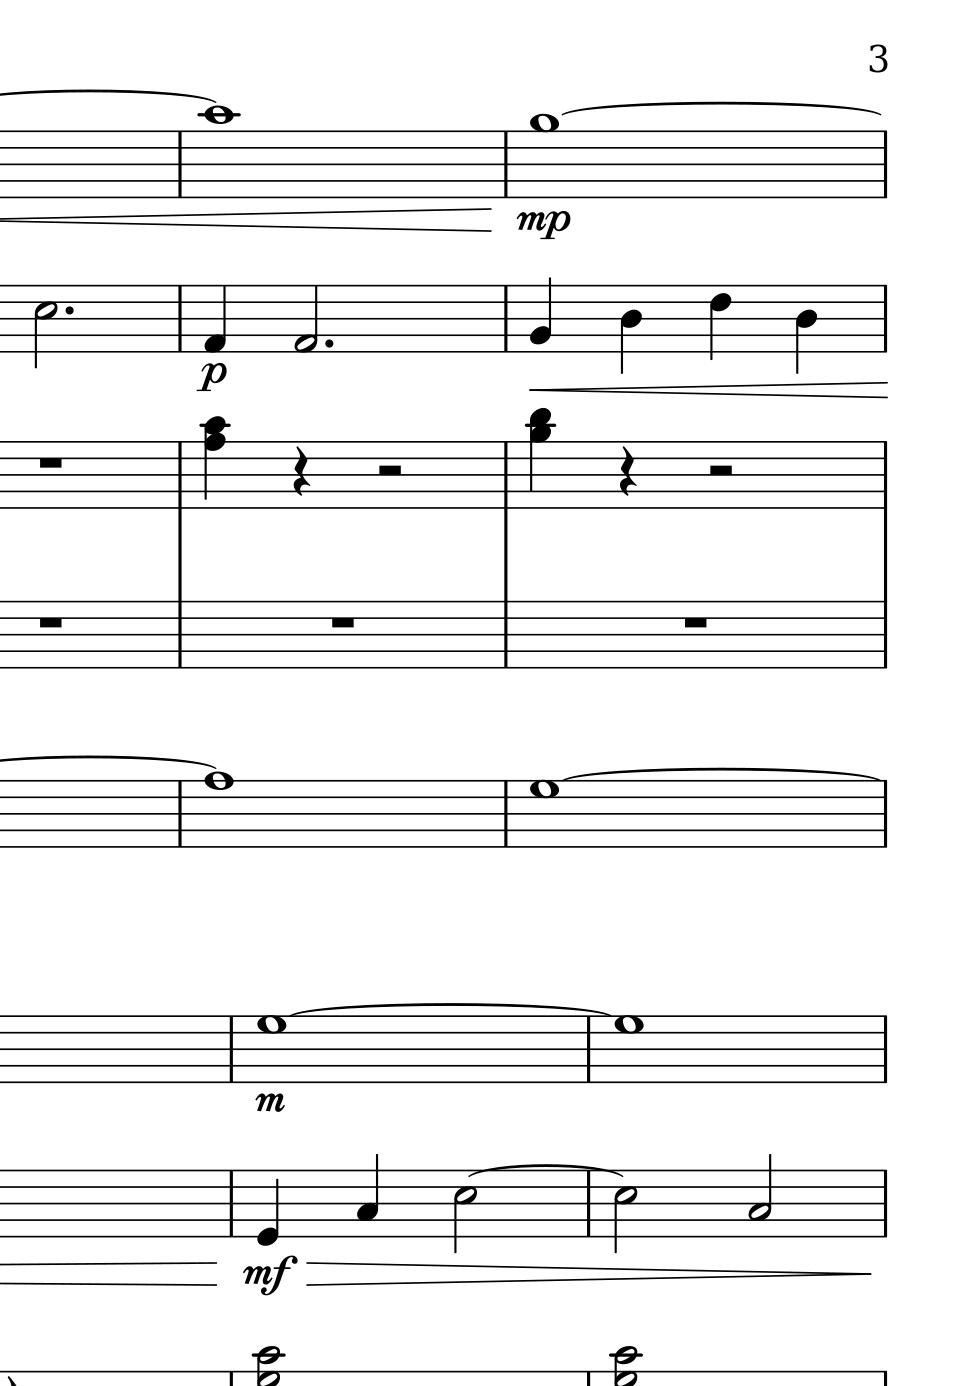1_10: (200, 104, 237, 200), (202, 771, 235, 850)
1_7: (255, 1015, 288, 1084), (613, 1015, 645, 1085), (529, 779, 560, 849)
1_9: (527, 111, 561, 200)
2_1: (292, 284, 320, 354)
2_3: (746, 1153, 774, 1240)
2_5: (31, 283, 59, 370), (451, 1168, 479, 1255), (611, 1168, 638, 1255)
3: (868, 42, 888, 74)
4_0: (256, 1166, 281, 1246)
4_1: (202, 283, 228, 354)
4_2: (528, 276, 554, 355)
4_3: (354, 1152, 380, 1239)
4_4: (791, 281, 819, 375), (617, 283, 643, 375)
4_6: (706, 282, 732, 364)
4_8_10: (198, 415, 231, 510)
4_9_11: (525, 407, 555, 509)
Crescendo_hairpin: (528, 379, 890, 400)
Diminuendo_hairpin: (307, 1261, 875, 1286)
Rests1: (327, 613, 358, 631), (35, 613, 66, 631), (35, 453, 65, 471), (680, 613, 710, 631)
Rests2: (702, 462, 737, 483), (372, 462, 406, 481)
Rests4: (288, 445, 312, 499), (615, 445, 638, 499)
Single_barline: (875, 1170, 894, 1236), (171, 285, 189, 352), (497, 780, 515, 847), (876, 1016, 894, 1083), (171, 442, 189, 507), (222, 1016, 240, 1081), (579, 1017, 597, 1082), (580, 1173, 598, 1236), (497, 131, 514, 198), (171, 780, 188, 847), (171, 131, 188, 197), (171, 602, 188, 668), (497, 602, 514, 668), (876, 602, 893, 668), (497, 286, 514, 351), (498, 442, 515, 507), (877, 780, 893, 848), (223, 1170, 239, 1236), (877, 285, 893, 351), (877, 442, 892, 508), (878, 131, 892, 199)
Slur: (566, 99, 883, 117), (561, 767, 877, 780), (292, 1001, 607, 1015), (463, 1162, 617, 1177)
dot: (62, 303, 76, 318), (321, 336, 335, 350)
m: (253, 1091, 285, 1113)
mf: (242, 1253, 298, 1296)
mp: (514, 207, 572, 241)
p: (195, 359, 228, 394)
